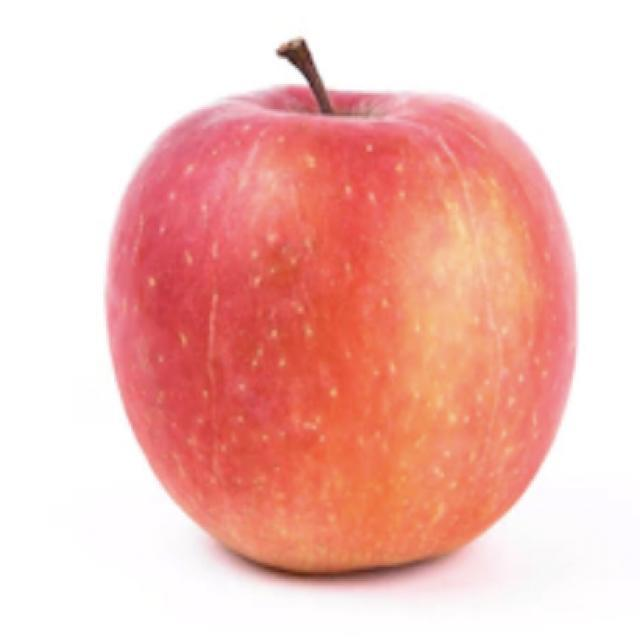Fresh Apple: (100, 74, 588, 578)
